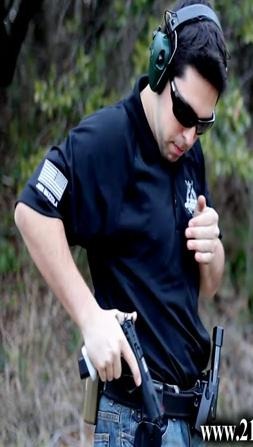pistol: (76, 303, 165, 421)
